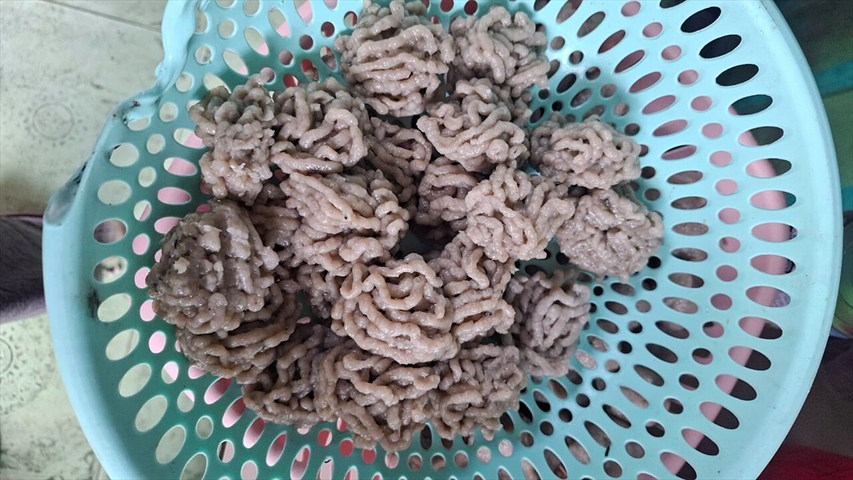Pempek: (125, 39, 734, 425)
